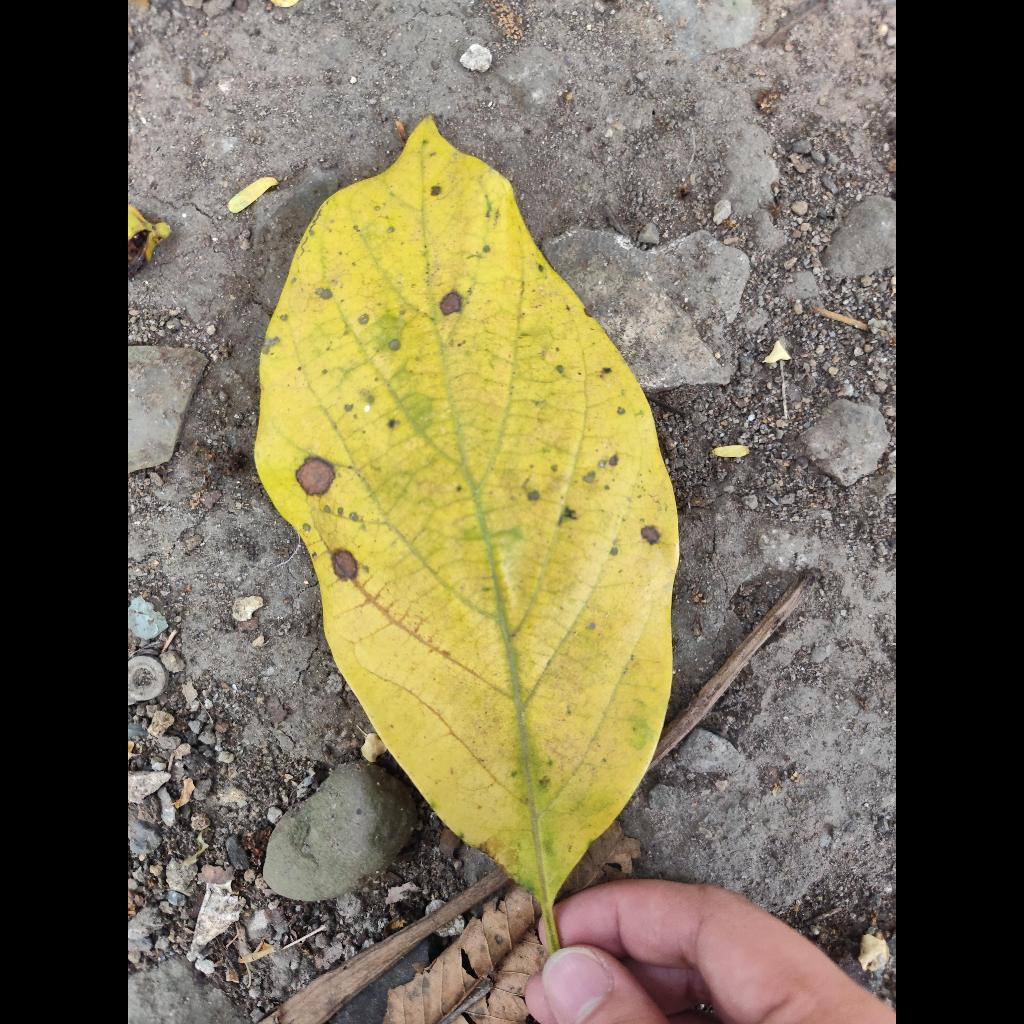deficiencia_nutricional: (255, 117, 678, 942)
